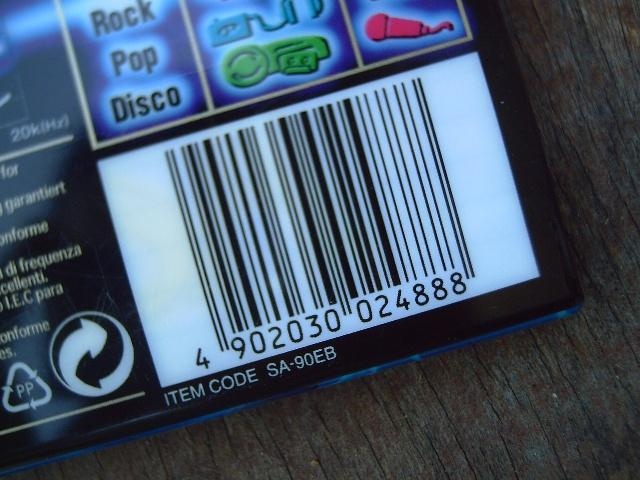Barcode: (161, 70, 476, 377)
